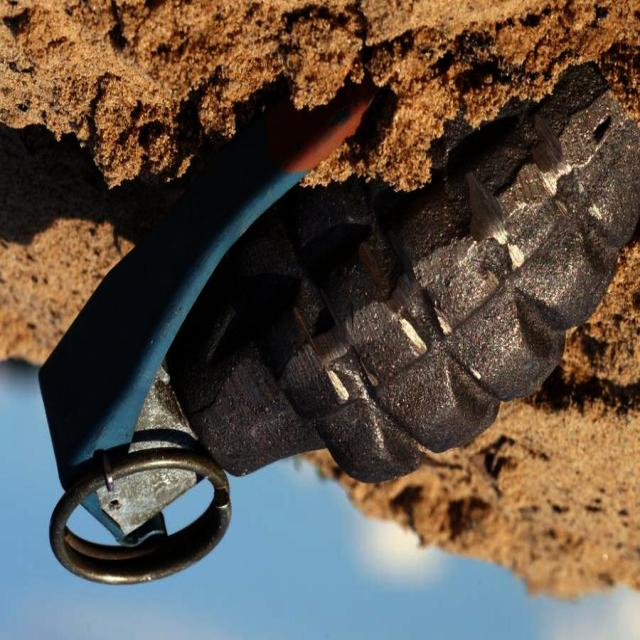grenade: (38, 62, 640, 587)
